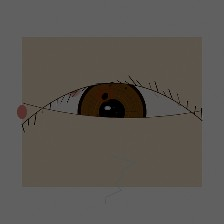foreign_body_visible: (43, 113, 66, 131)
